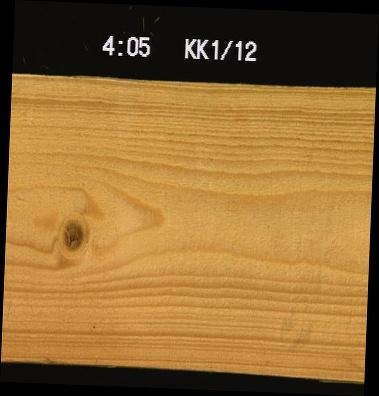sound_knot: (60, 218, 87, 250)
